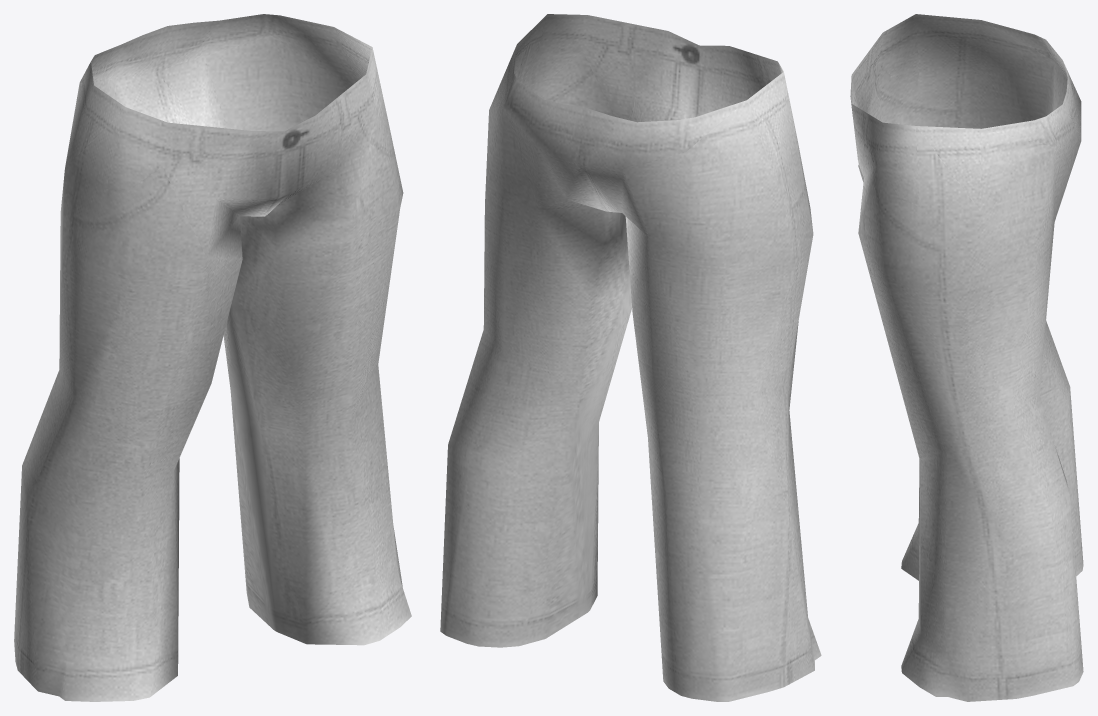
The model's file is Pants.glb.
The picture shows the model from 3 angles, left to right: view 1: azimuth 30°, elevation 25°; view 2: azimuth 150°, elevation 25°; view 3: azimuth 270°, elevation 25°; orthographic projection. The views are drawn at different scales.
Parts seen in each view (by area): view 1: Pants; view 2: Pants; view 3: Pants.
Boxes of the visible parts, x1,y1,x2,y2 form: Pants: [14, 14, 411, 701]; Pants: [440, 14, 821, 701]; Pants: [850, 14, 1083, 701].
Bounding box in the file's own units: 7.78 × 11.98 × 4.6.
Materials: 1 (1 with a texture image).
